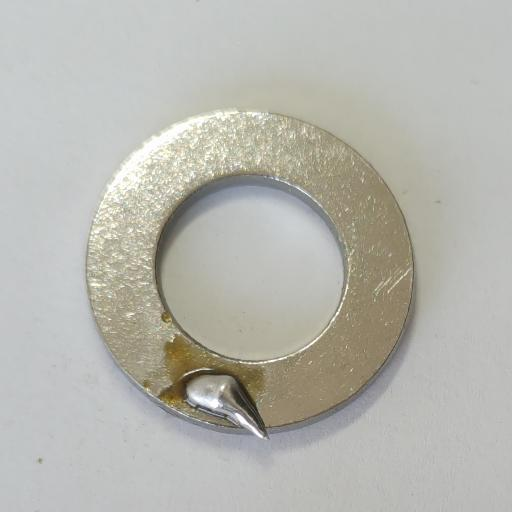excess_material: (186, 375, 271, 440)
